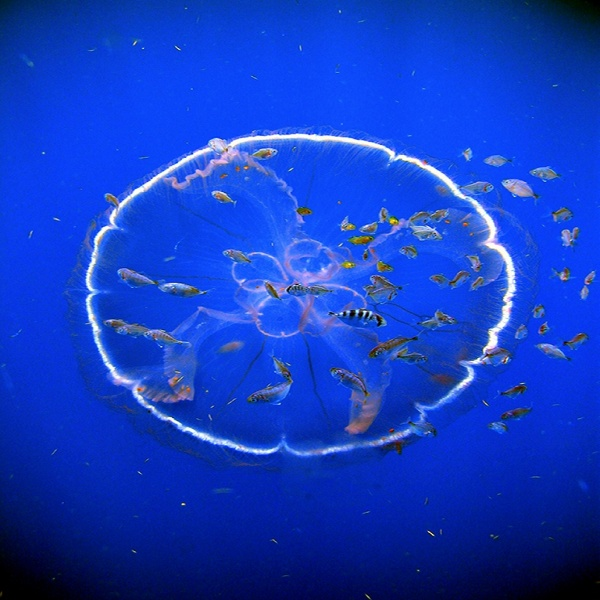Jellyfish: (61, 121, 541, 598)
